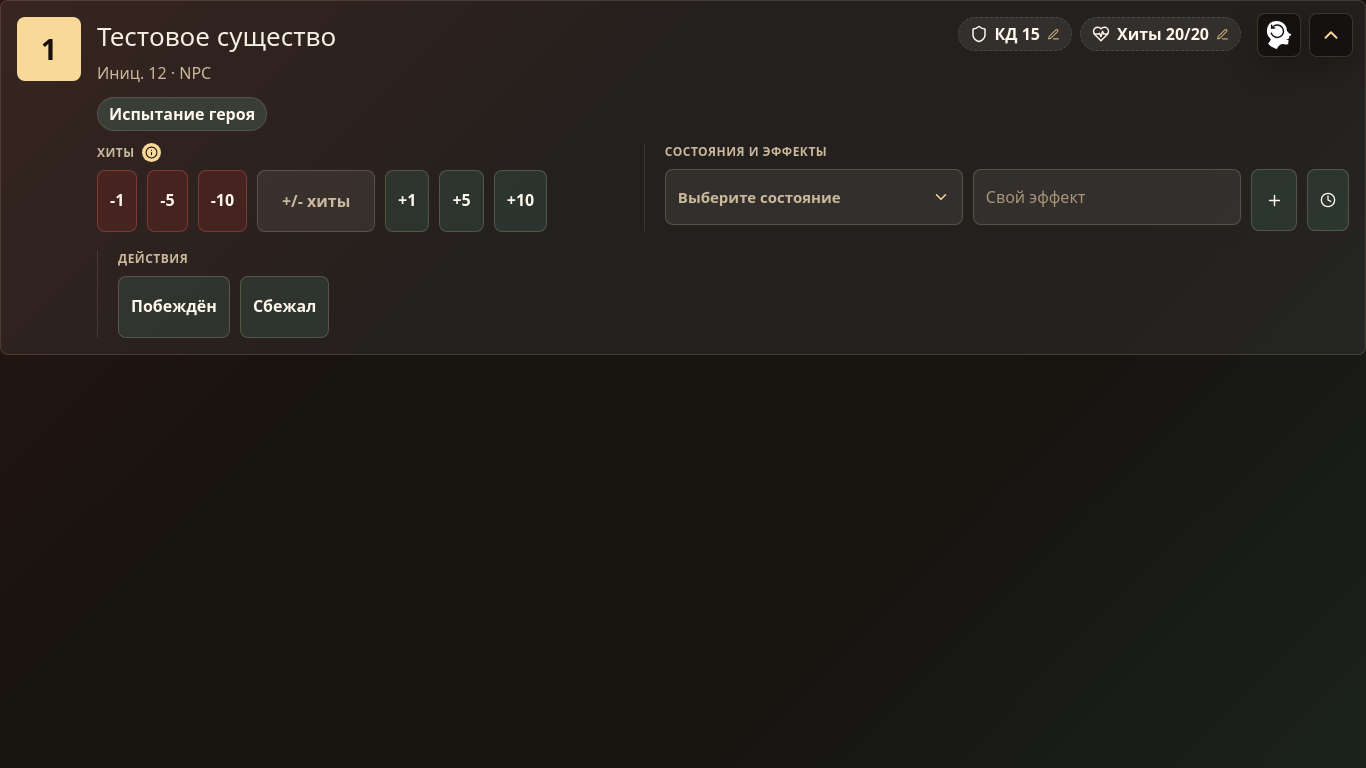
CombatantCard compact mode › скрывает редактор эффектов, но оставляет назначенные эффекты, хиты и действия
Click the button named "Свернуть карточку: Тестовое существо": (1331, 35) [1309, 13, 1353, 57]
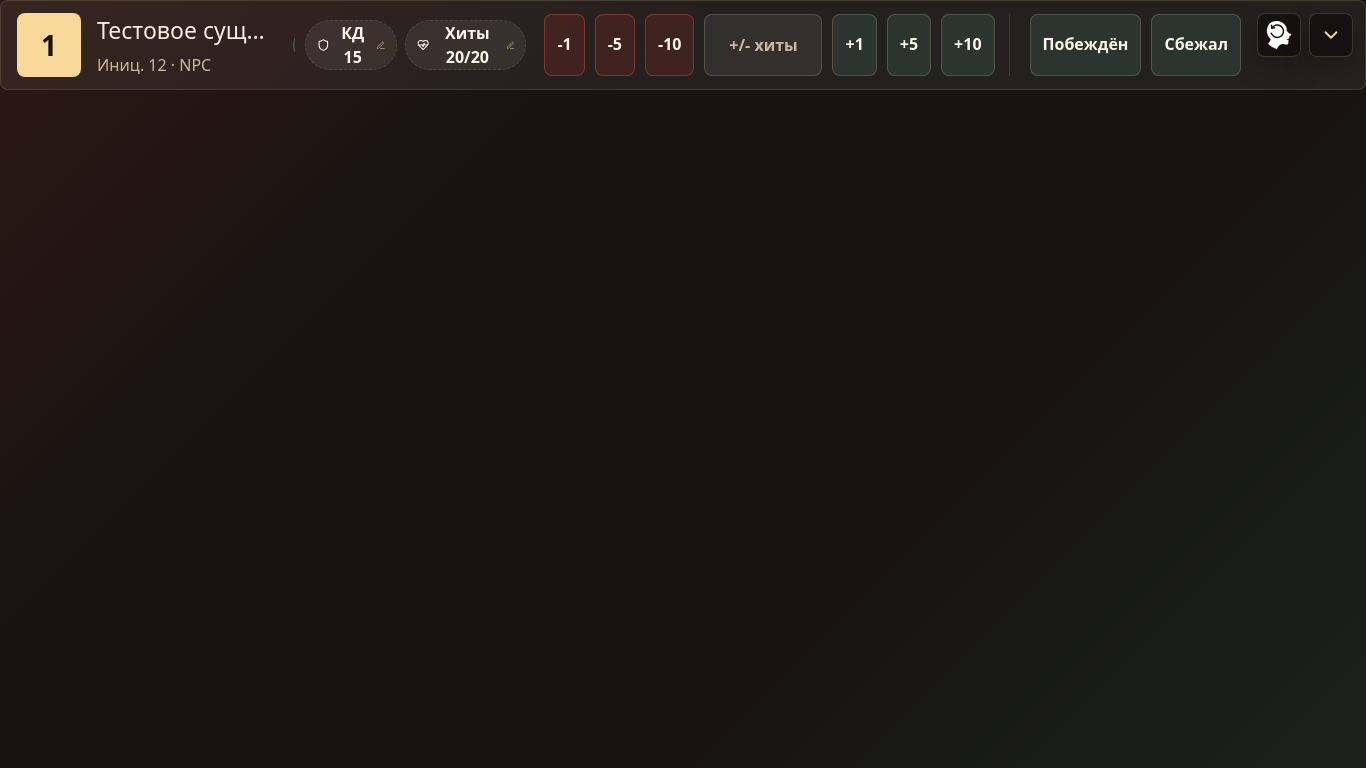
expect the element named "Управление хитами" is shown: met, box [544, 14, 995, 76]
expect the text labelled "Состояния и эффекты" is gone: met
expect the element named "Активные состояния и эффекты" is shown: met, box [291, 25, 295, 65]
